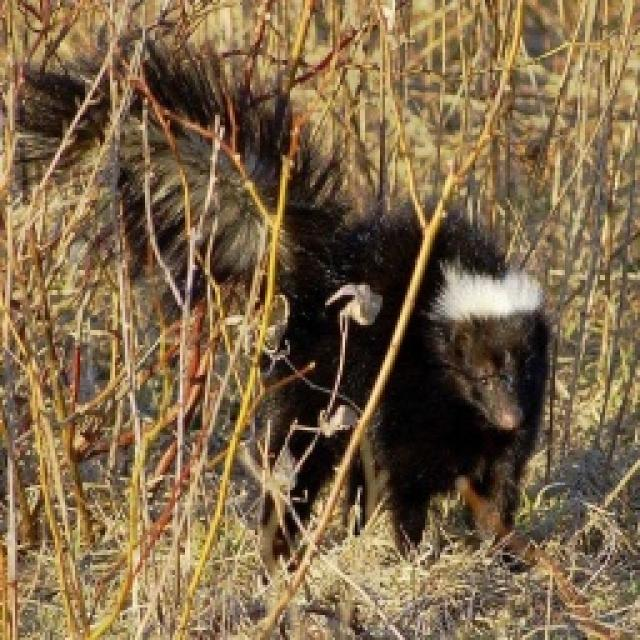not_pig: (0, 32, 555, 580)
